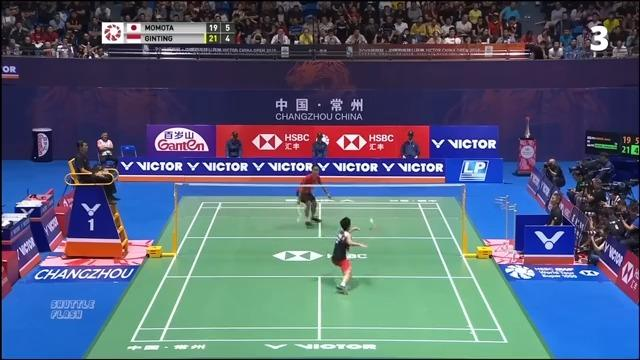Shuttlecock: (367, 214, 377, 226)
